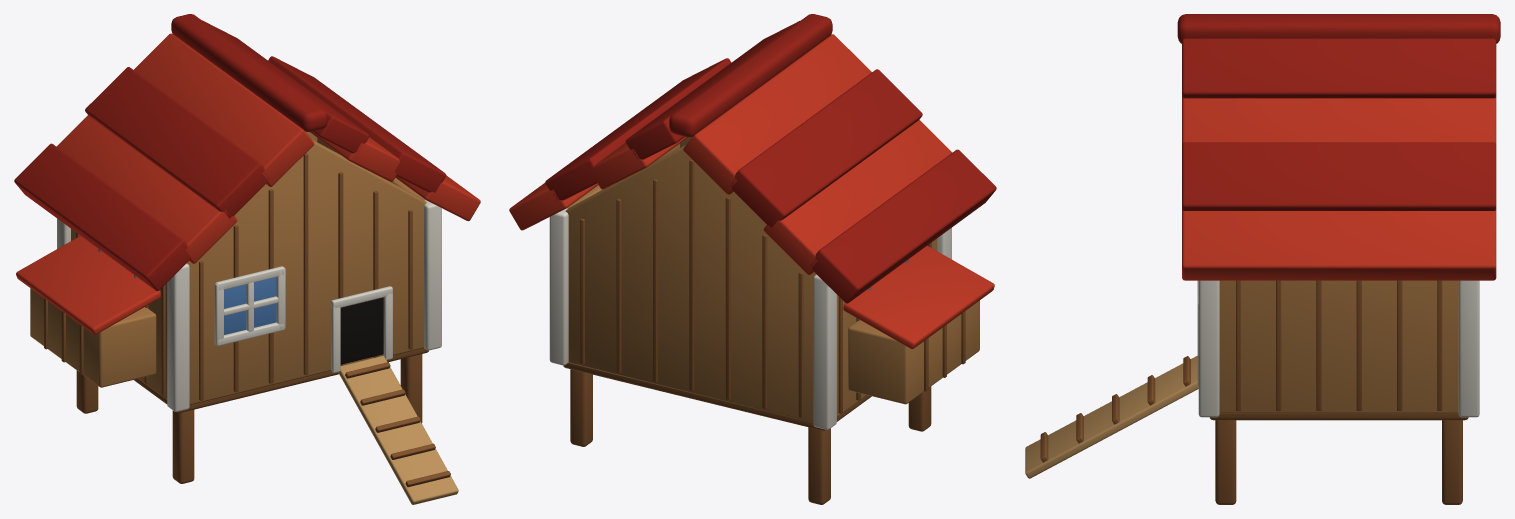
File: chicken_coop.glb
3 renders of one model, left to right at view 1: azimuth 30°, elevation 25°; view 2: azimuth 150°, elevation 25°; view 3: azimuth 270°, elevation 25°, orthographic. The views are drawn at different scales.
Parts seen in each view (by area): view 1: chicken_coop; view 2: chicken_coop; view 3: chicken_coop.
Boxes of the visible parts, x1,y1,x2,y2 form: chicken_coop: [14, 14, 480, 504]; chicken_coop: [509, 14, 996, 504]; chicken_coop: [1025, 14, 1500, 504].
Bounding box in the file's own units: 2.35 × 2.2 × 2.27.
